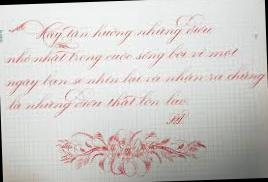text: (2, 64, 268, 96), (6, 11, 212, 51), (3, 40, 241, 74), (4, 84, 189, 121), (164, 108, 191, 127)
